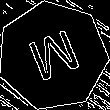M_S: (22, 24, 84, 88)
